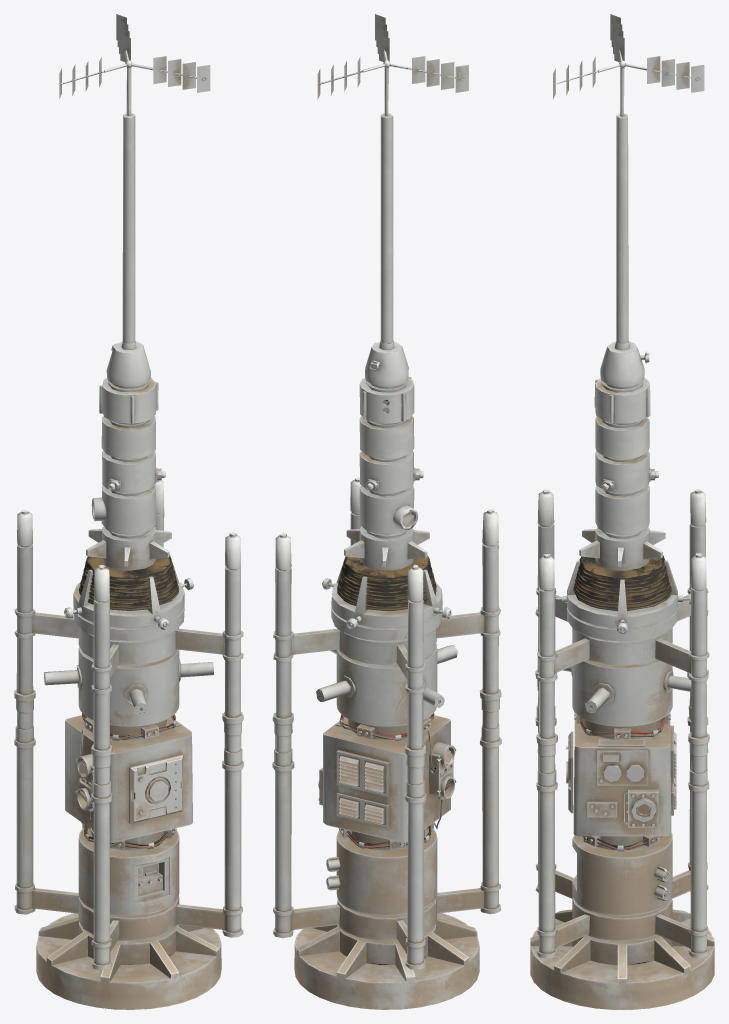
Rendered from vaporator.ultra.glb.
The picture shows the model from 3 angles, left to right: view 1: azimuth 30°, elevation 25°; view 2: azimuth 150°, elevation 25°; view 3: azimuth 270°, elevation 25°; orthographic projection.
Visible parts, largest first — view 1: Object_4; view 2: Object_4; view 3: Object_4.
Boxes of the visible parts, x1,y1,x2,y2 form: Object_4: (14,14,243,1009); Object_4: (272,14,501,1009); Object_4: (530,14,714,1009).
Bounding box in the file's own units: 0.9088 × 5 × 0.9082.
1 material, 1 textured.
